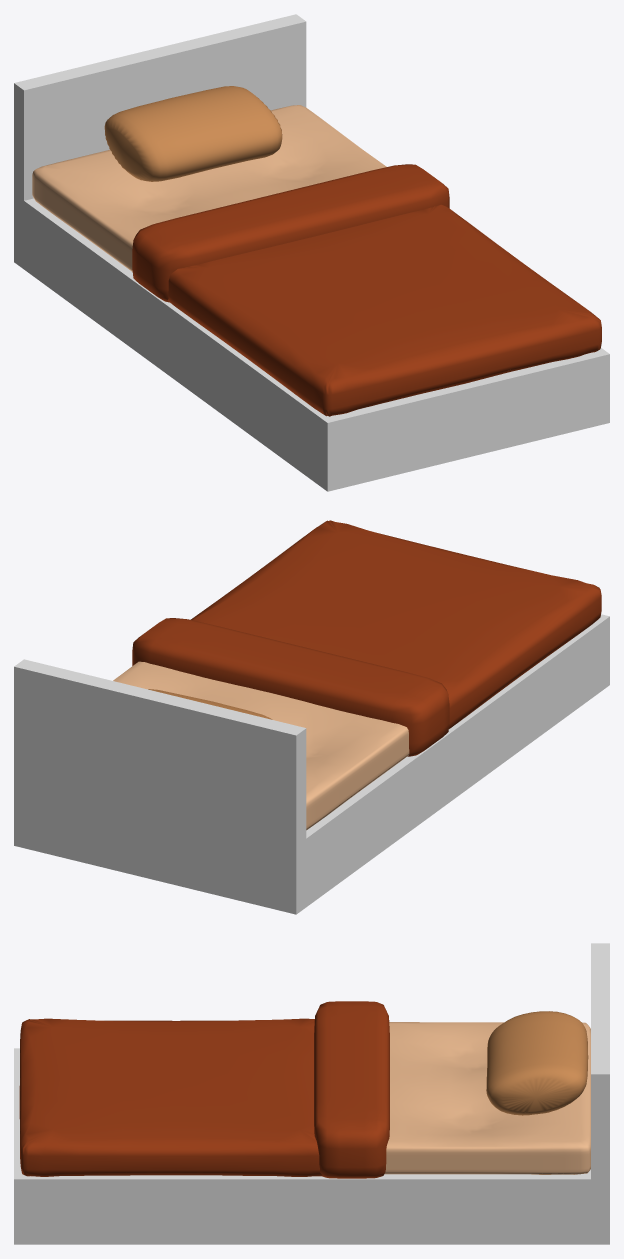
File: bed_tier5.fbx
The picture shows the model from 3 angles, top to bottom: view 1: azimuth 30°, elevation 25°; view 2: azimuth 150°, elevation 25°; view 3: azimuth 270°, elevation 25°; orthographic projection. The views are drawn at different scales.
Visible parts, largest first — view 1: Cube.002, Cube, Cube.001, Cylinder.012; view 2: Cube, Cube.002, Cube.001; view 3: Cube.002, Cube, Cube.001, Cylinder.012.
Boxes of the visible parts, x1=… form: Cube.002: x1=132, y1=164, x2=601, y2=416; Cube: x1=14, y1=14, x2=609, y2=491; Cube.001: x1=32, y1=105, x2=386, y2=271; Cylinder.012: x1=104, y1=86, x2=282, y2=181; Cube: x1=14, y1=614, x2=609, y2=914; Cube.002: x1=132, y1=520, x2=601, y2=756; Cube.001: x1=113, y1=661, x2=409, y2=830; Cube.002: x1=19, y1=1001, x2=389, y2=1178; Cube: x1=14, y1=943, x2=609, y2=1244; Cube.001: x1=384, y1=1022, x2=590, y2=1174; Cylinder.012: x1=486, y1=1011, x2=588, y2=1115.
Size of the model in its own units: 196 by 114 by 363.
